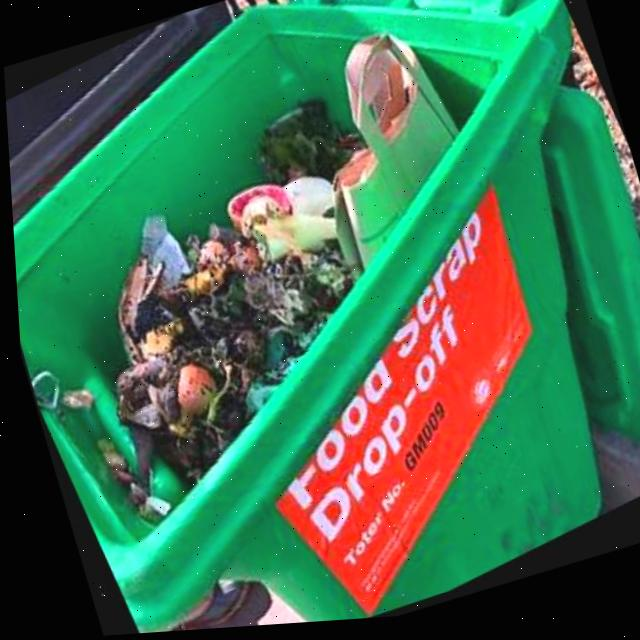Background: (5, 0, 297, 221), (562, 33, 640, 264), (160, 582, 293, 633), (588, 441, 640, 517)
Garbage: (90, 41, 453, 523), (24, 369, 88, 415)
